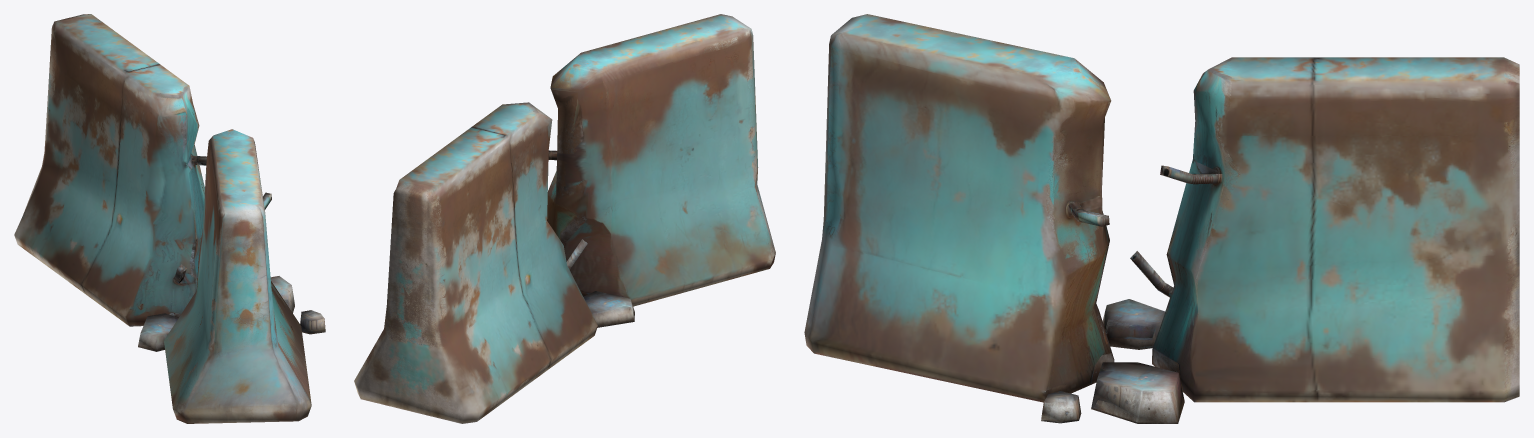
Rendered from _0723161253_texture.fbx.
3 renders of one model, left to right at view 1: azimuth 30°, elevation 25°; view 2: azimuth 150°, elevation 25°; view 3: azimuth 270°, elevation 25°, orthographic. The views are drawn at different scales.
Parts seen in each view (by area): view 1: Mesh_0; view 2: Mesh_0; view 3: Mesh_0.
Boxes of the visible parts, x1=… form: Mesh_0: x1=14, y1=14, x2=325, y2=423; Mesh_0: x1=354, y1=14, x2=775, y2=423; Mesh_0: x1=804, y1=14, x2=1519, y2=423.
Bounding box in the file's own units: 93.41 × 91.01 × 200.
1 material, 1 textured.
